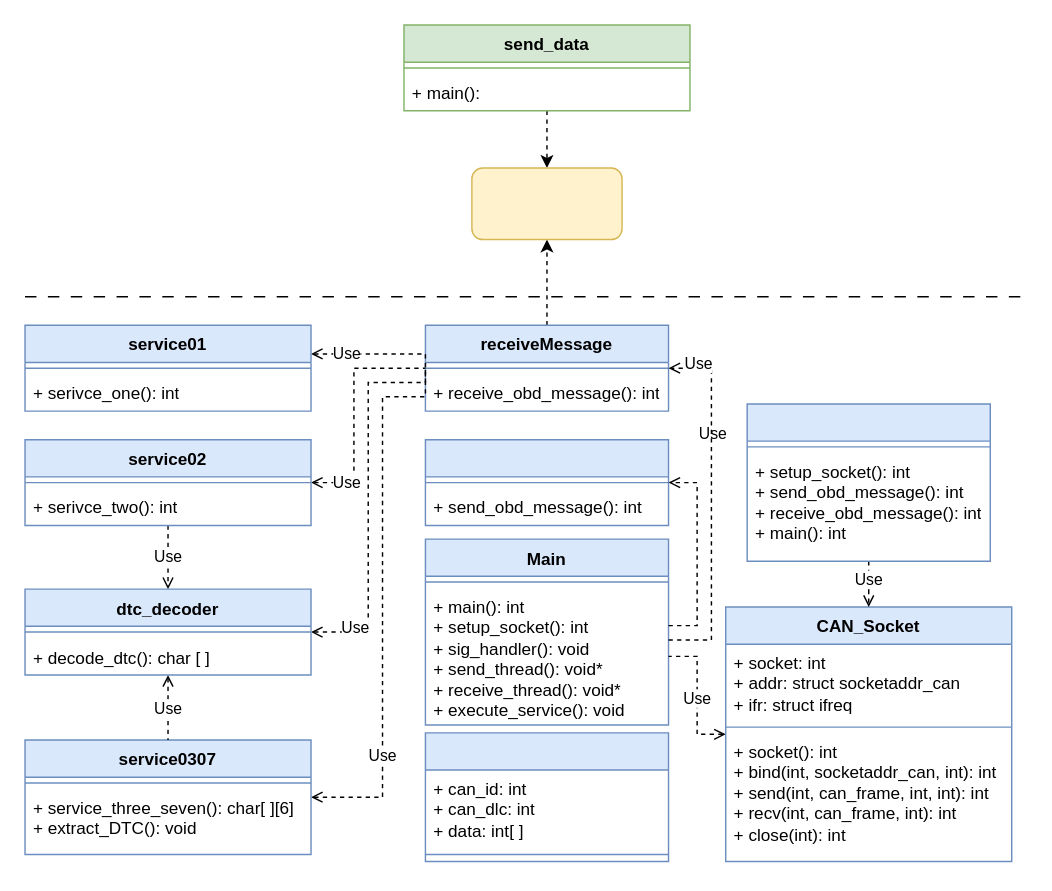
Image size: 1052x891. Some labels were removed from this diagram. The box of each missing label's shape, as (x1, y1, x2, y2) in pixels:
CAN_Frame: (424, 731, 669, 862)
can_simulator: (746, 403, 990, 561)
History.log: (470, 167, 622, 240)
sendMessage: (424, 438, 669, 526)
